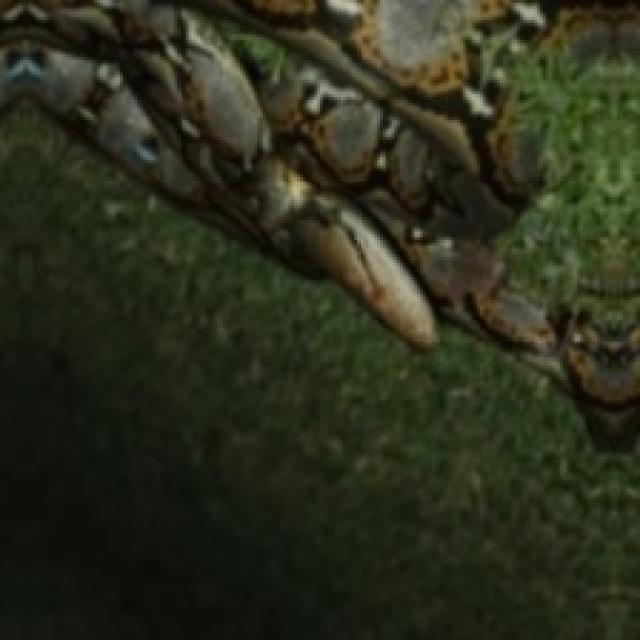reticulated python: (0, 0, 637, 443), (506, 131, 566, 280)
